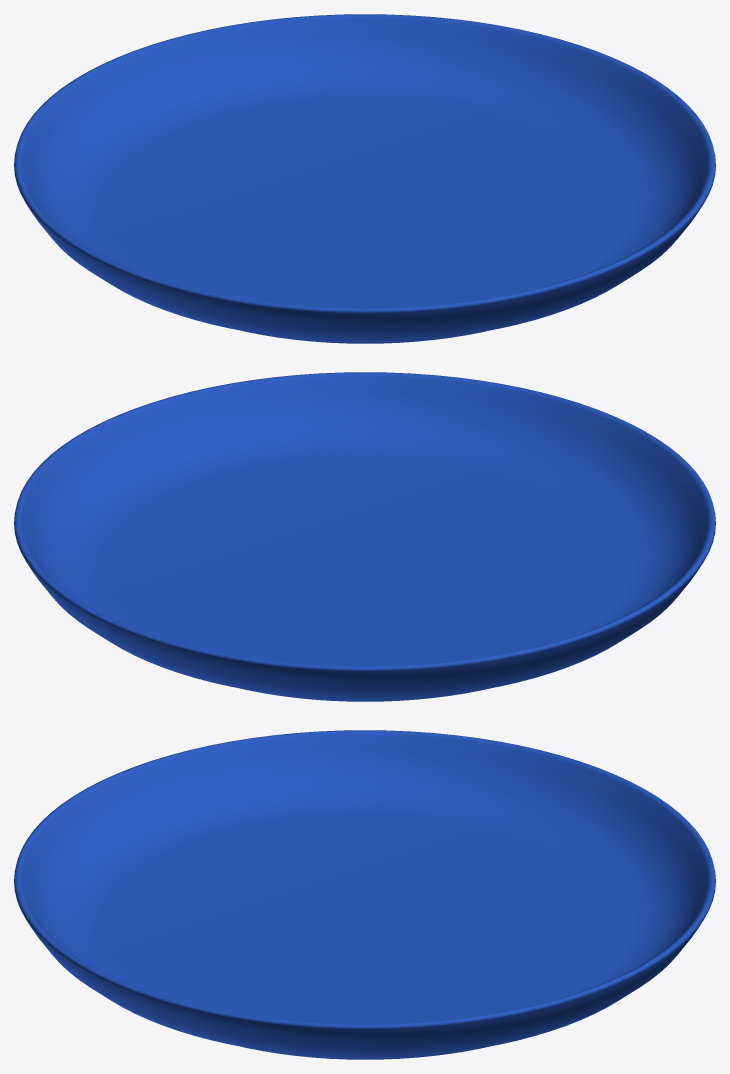
The model's file is plato-chico-17cm.glb.
3 renders of one model, top to bottom at view 1: azimuth 30°, elevation 25°; view 2: azimuth 150°, elevation 25°; view 3: azimuth 270°, elevation 25°, orthographic.
Parts seen in each view (by area): view 1: plato-chico-17cm; view 2: plato-chico-17cm; view 3: plato-chico-17cm.
Boxes of the visible parts, x1,y1,x2,y2 form: plato-chico-17cm: (14,14,715,343); plato-chico-17cm: (14,372,715,701); plato-chico-17cm: (14,730,715,1059).
Bounding box in the file's own units: 0.1744 × 0.02 × 0.1744.
